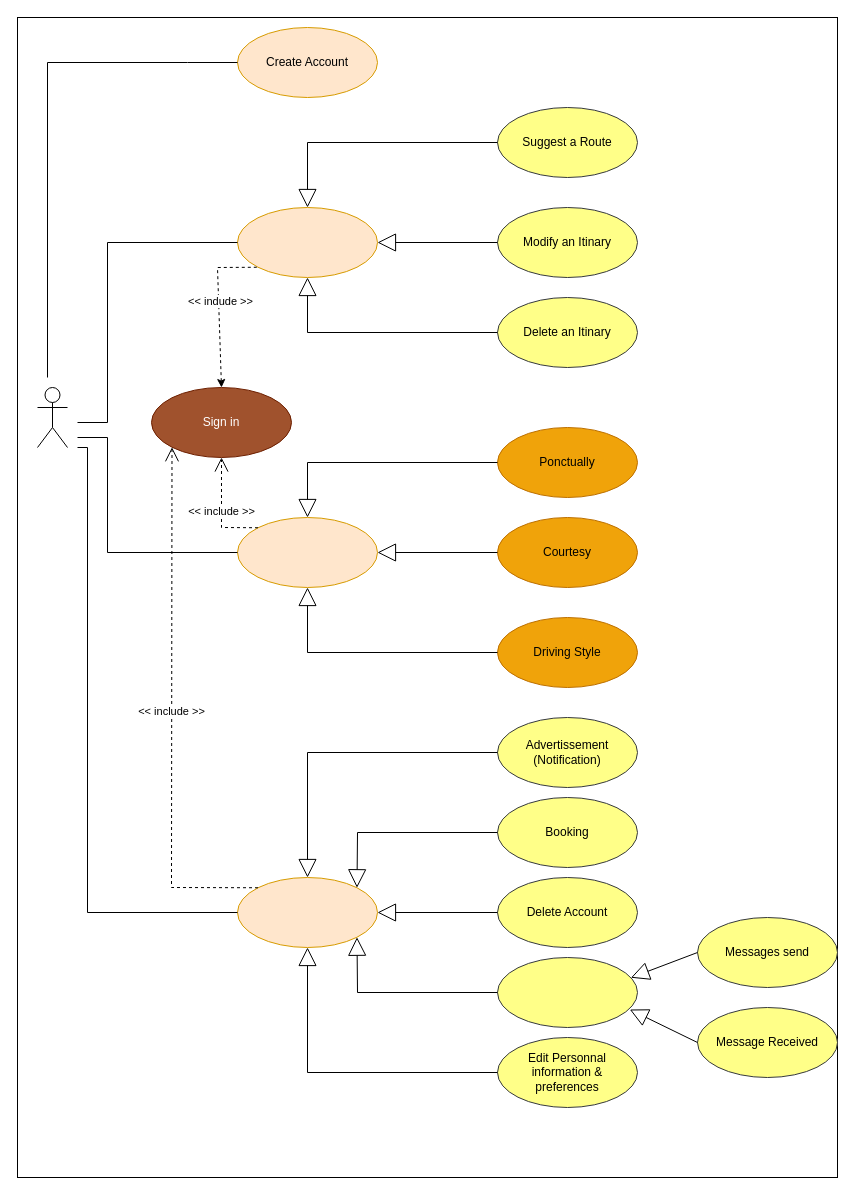
Some shapes in this 855 by 1195 pixel diagram are drawn without their labels. Each missing label, with the centre of its shape:
Account Management: [307,912]
Driver: [52,417]
Messages: [567,992]
Note Passager: [307,552]
Route Management: [307,242]
